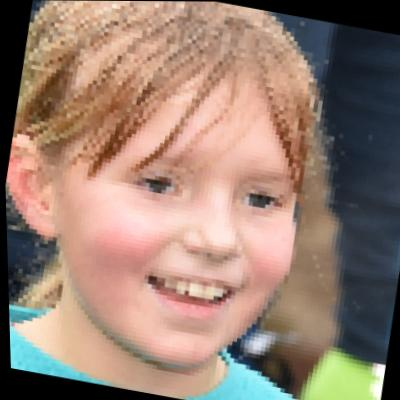happy: (30, 46, 322, 379)
